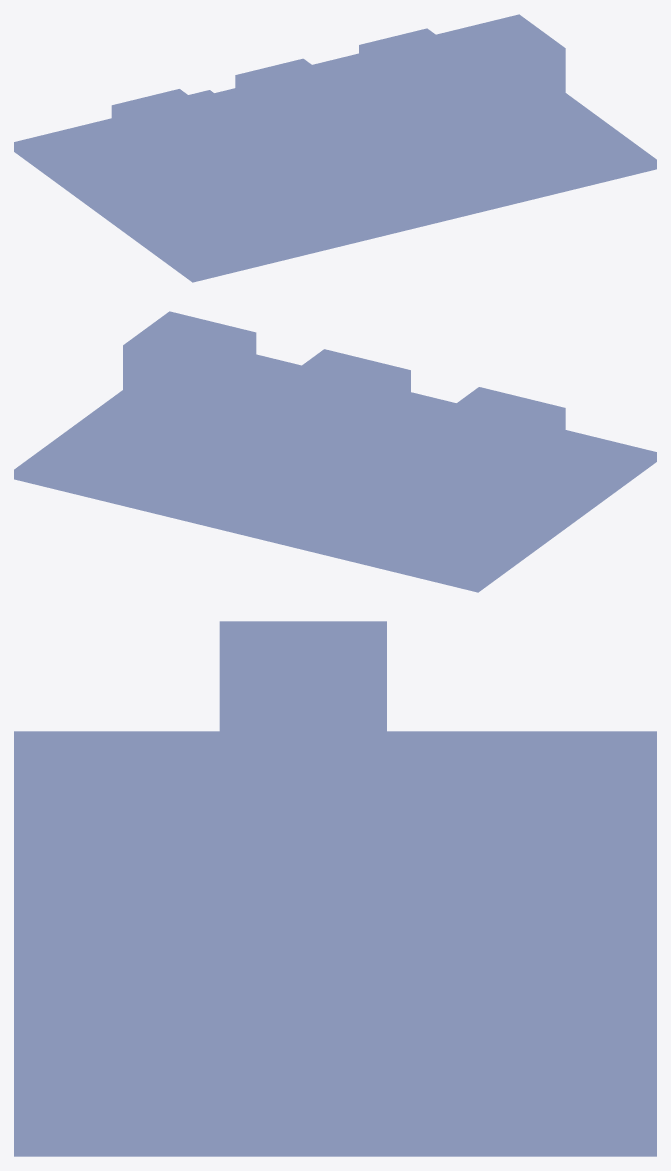
Rendered from factory-layout.glb.
3 renders of one model, top to bottom at view 1: azimuth 30°, elevation 25°; view 2: azimuth 150°, elevation 25°; view 3: azimuth 270°, elevation 25°, orthographic. The views are drawn at different scales.
Visible parts, largest first — view 1: derived-factory-layout; view 2: derived-factory-layout; view 3: derived-factory-layout.
Boxes of the visible parts, x1,y1,x2,y2 form: derived-factory-layout: [14, 14, 656, 282]; derived-factory-layout: [14, 311, 656, 592]; derived-factory-layout: [14, 621, 656, 1156].
Bounding box in the file's own units: 15 × 2.7 × 10.
